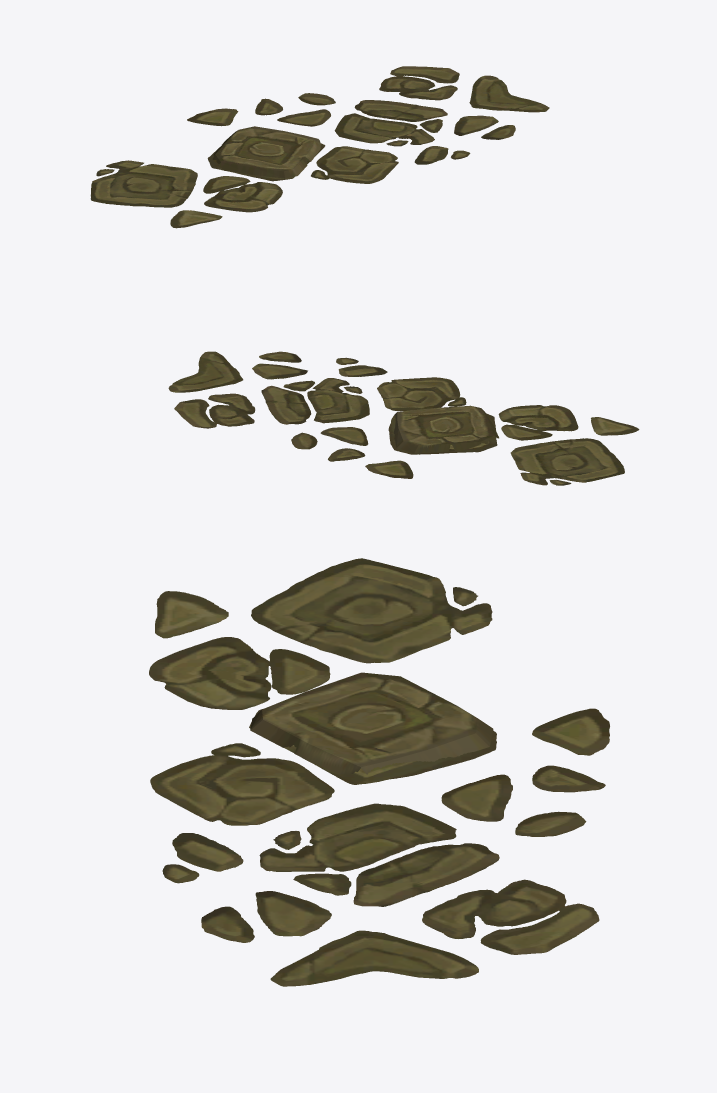
File: pavers_straight_03.fbx
3 views of the same model, one above another, from view 1: azimuth 30°, elevation 25°; view 2: azimuth 150°, elevation 25°; view 3: azimuth 270°, elevation 25° (orthographic). The views are drawn at different scales.
Parts seen in each view (by area): view 1: obj0.118; view 2: obj0.118; view 3: obj0.118.
Part boxes in pixels (x1=…): obj0.118: x1=90, y1=66, x2=549, y2=228; obj0.118: x1=168, y1=351, x2=639, y2=485; obj0.118: x1=149, y1=558, x2=609, y2=986.
Size of the model in its own units: 9.98 by 0.1134 by 5.02.
